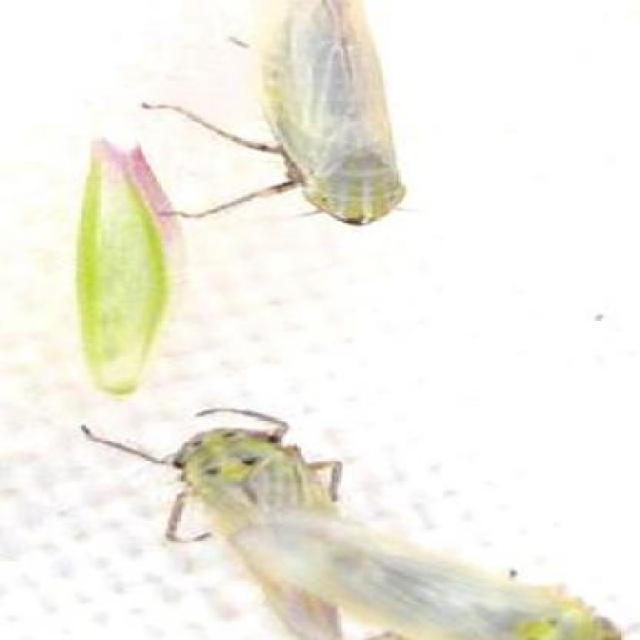brown-planthopper: (68, 407, 627, 640), (137, 0, 405, 238)
